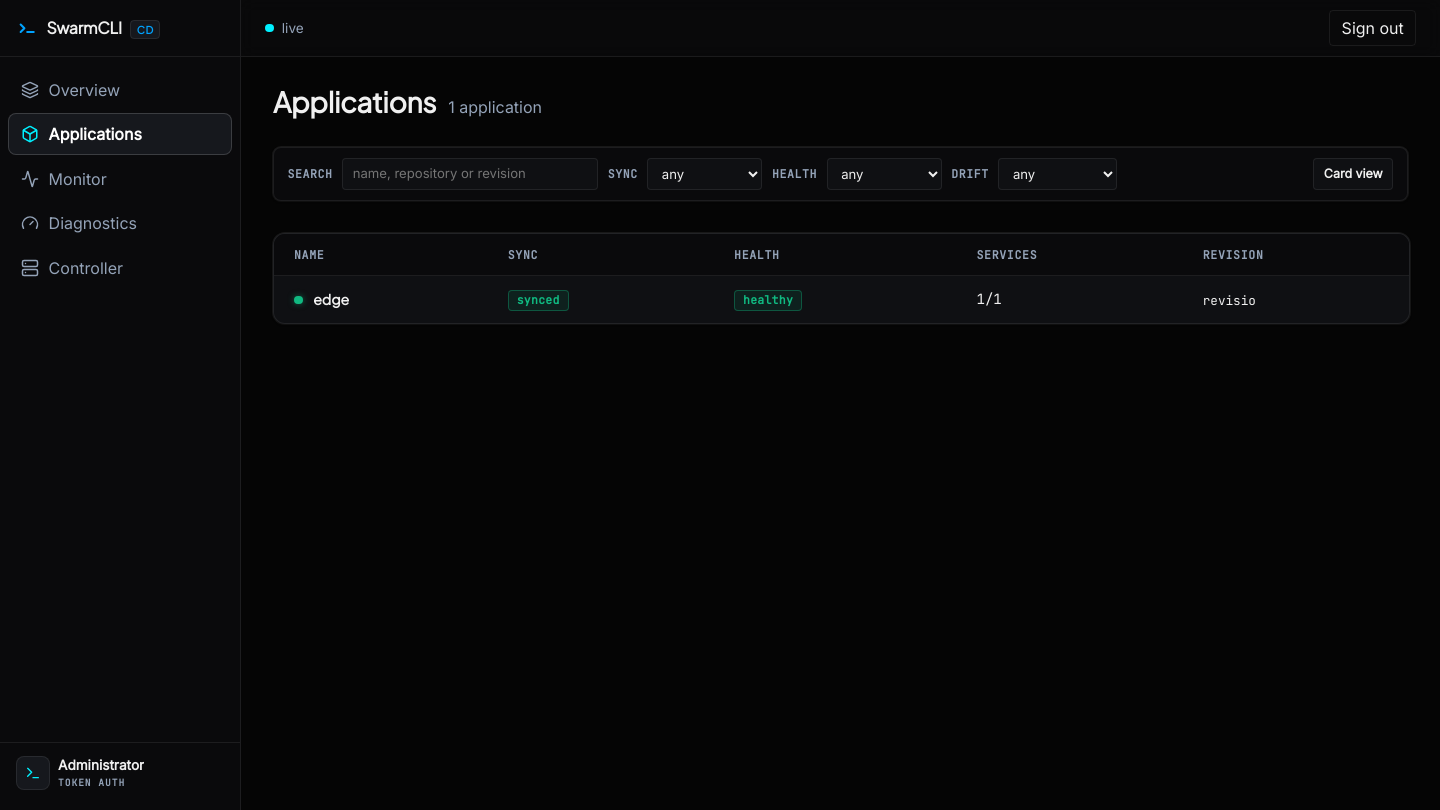
Test: the monitor › tails the controller event stream, one line per frame
The width and height of the screenshot is (1440, 810).
expect the text "1 application" is shown: met, box [448,95,542,119]
Click the link "Monitor". click: x=64, y=179
box: [21,169,107,189]
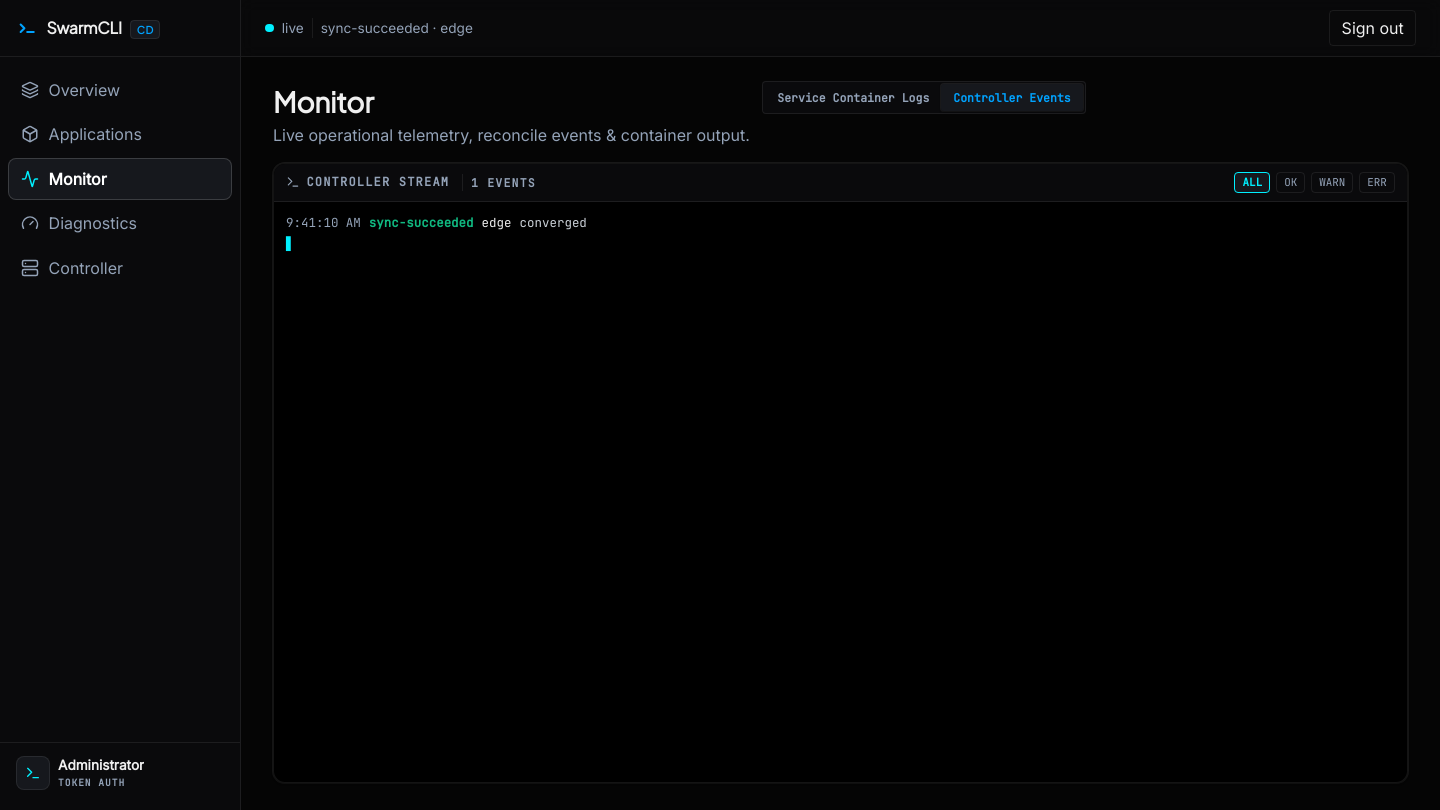
expect the heading "Monitor" is shown: met, box [273,84,373,119]
expect the text "sync-succeeded" is shown: met, box [369,214,474,232]
expect the text "converged" is shown: met, box [520,214,587,231]
